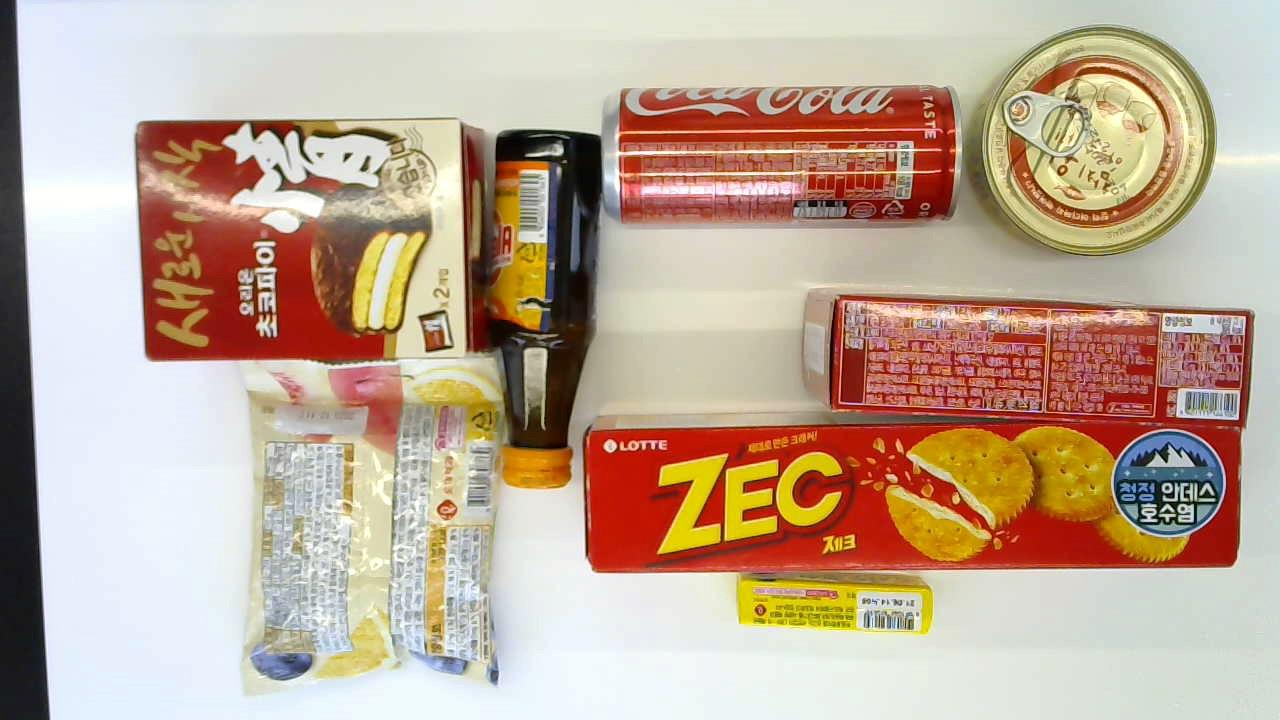chocopie: (132, 116, 477, 361)
coke: (601, 88, 964, 218)
couque_white: (798, 290, 1259, 420)
gumi_gumi: (244, 360, 510, 686)
juicyfresh: (732, 570, 928, 632)
tuna: (973, 25, 1216, 256)
vita500: (473, 127, 606, 488)
zec: (579, 413, 1253, 573)
